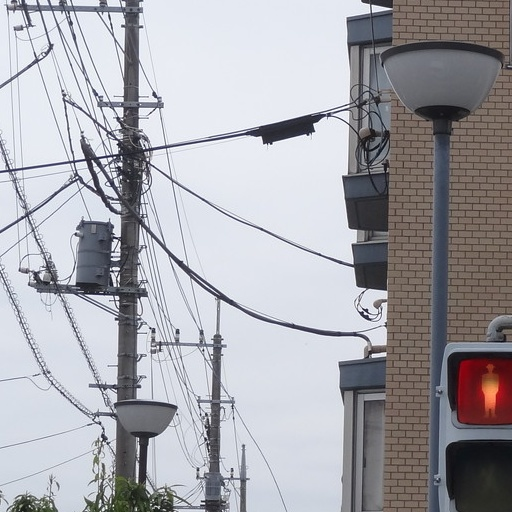Pedestrian_Signal_Red: (443, 328, 509, 507)
